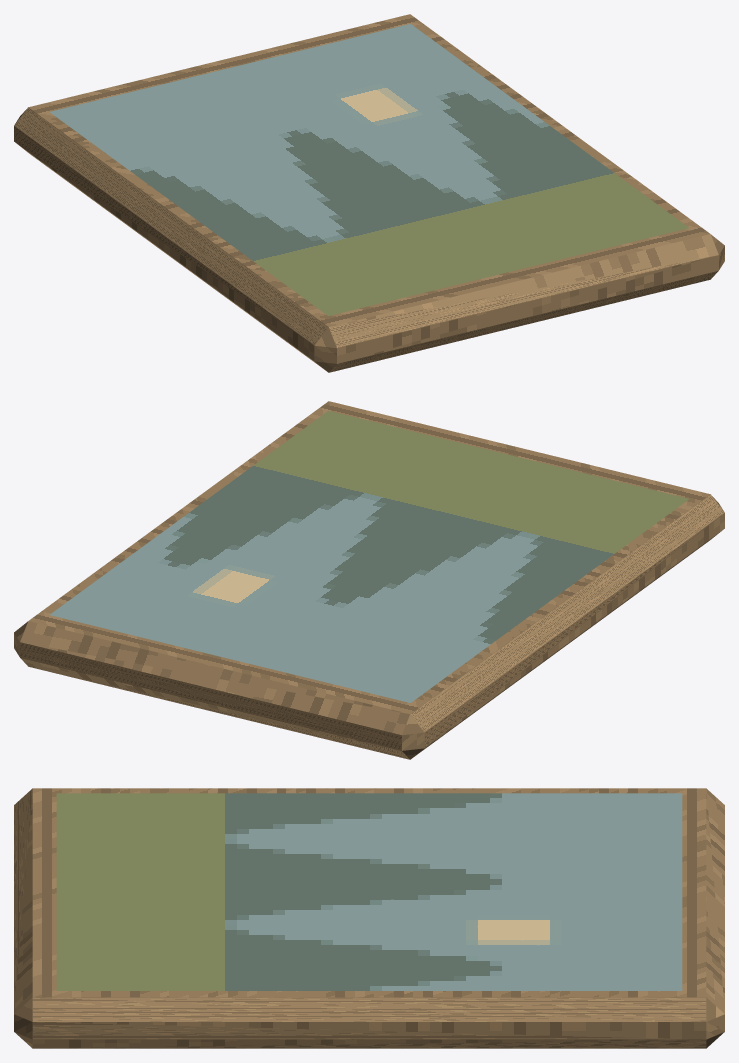
The model's file is painting.glb.
3 views of the same model, one above another, from view 1: azimuth 30°, elevation 25°; view 2: azimuth 150°, elevation 25°; view 3: azimuth 270°, elevation 25° (orthographic). The views are drawn at different scales.
Visible parts, largest first — view 1: block_decorative face, block_decorative border; view 2: block_decorative face, block_decorative border; view 3: block_decorative face, block_decorative border.
Boxes of the visible parts, x1,y1,x2,y2 form: block_decorative face: (50,24,688,315); block_decorative border: (14,14,724,372); block_decorative face: (50,411,688,702); block_decorative border: (14,401,724,759); block_decorative face: (56,793,682,990); block_decorative border: (14,788,724,1048).
Size of the model in its own units: 0.0516 by 0.00557 by 0.0691.
1 material, 1 textured.
